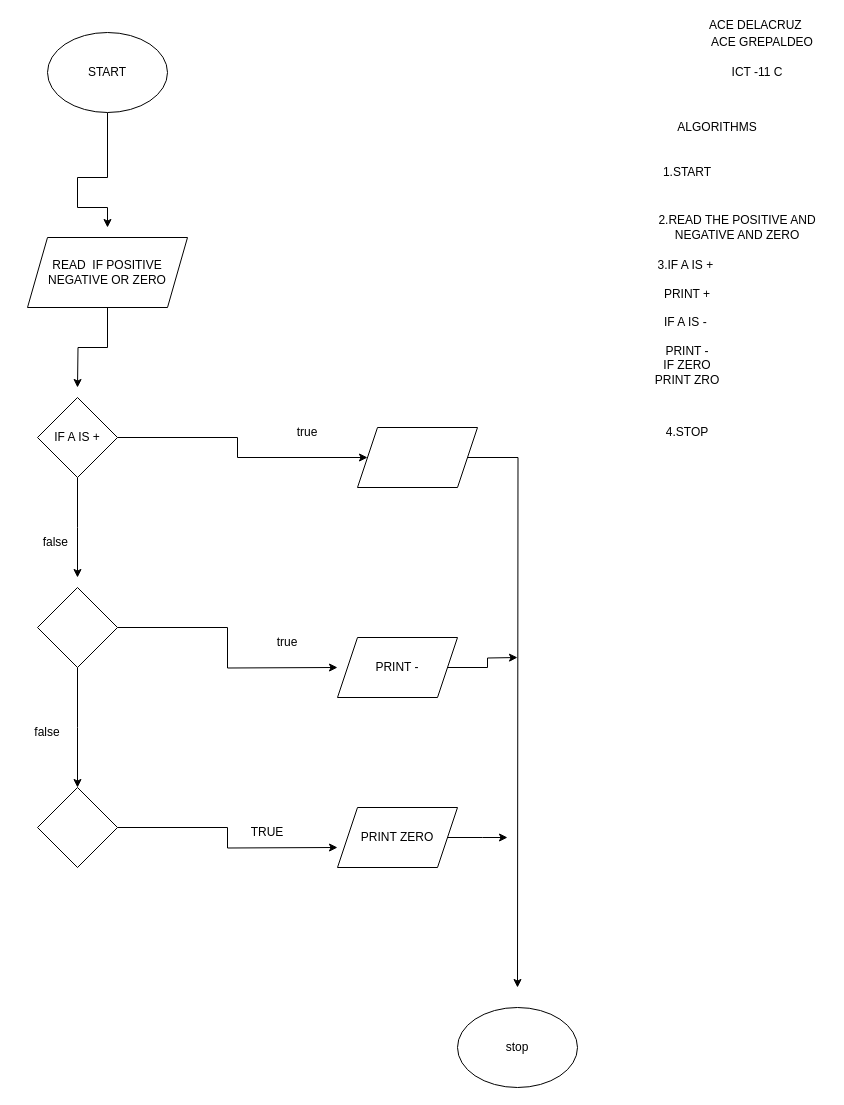
The diagram is 844 pixels wide and 1105 high, and some of its shapes have lost their labels. The shapes that lost their labels are listed below. From the top down, each one's box as (x1, y1, x2, y2) in pixels, then its label:
(356, 426, 478, 488): PRINT +
(36, 586, 118, 668): IF A IS -
(36, 786, 118, 868): IF ZERO
